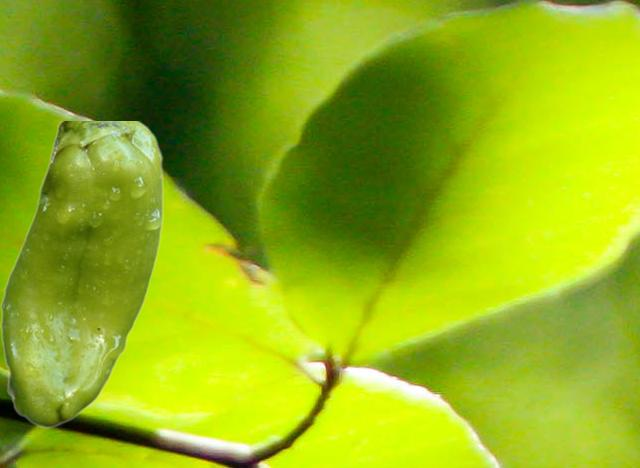green_chili: (0, 121, 162, 427)
